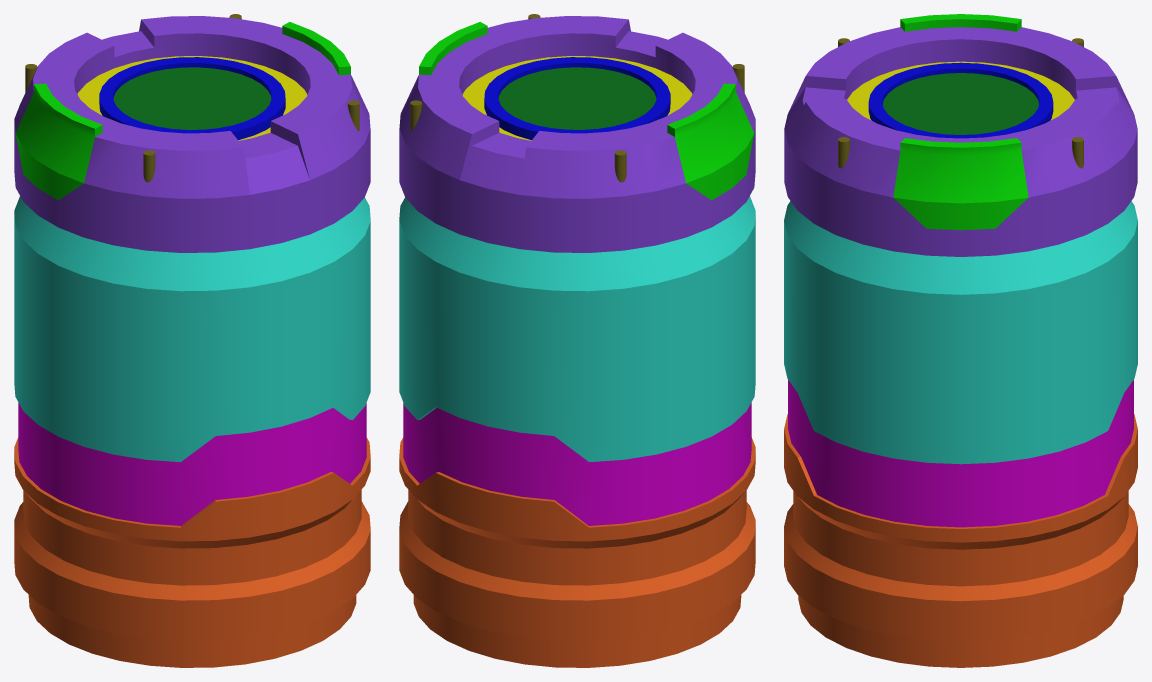
Rendered from Barrel.fbx.
3 renders of one model, left to right at view 1: azimuth 30°, elevation 25°; view 2: azimuth 150°, elevation 25°; view 3: azimuth 270°, elevation 25°, orthographic.
Visible parts, largest first — view 1: Barrel; view 2: Barrel; view 3: Barrel.
Boxes of the visible parts, bbox=[...] form: Barrel: bbox=[14, 14, 370, 667]; Barrel: bbox=[399, 14, 755, 667]; Barrel: bbox=[784, 14, 1137, 667].
Size of the model in its own units: 200 by 323 by 200.
